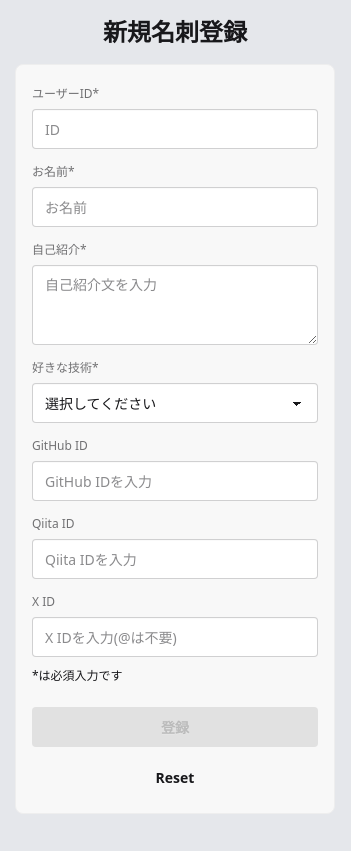
Test: 新規登録ページ › 自己紹介文がないときにエラーメッセージがでる
The image size is (351, 851).
Click the text box with placeholder "自己紹介文を入力": (175, 305) [32, 265, 318, 345]
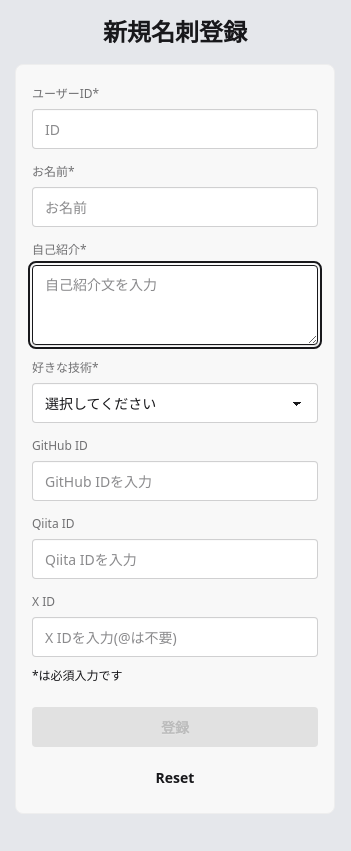
Press Tab
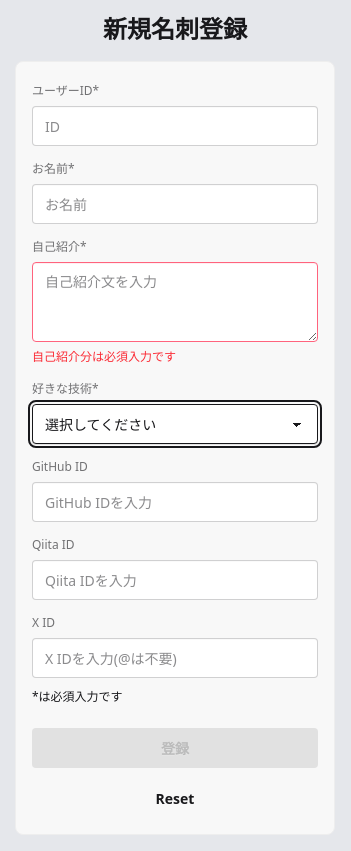
Now the text "自己紹介分は必須入力です" is shown, box [32, 348, 176, 365]
